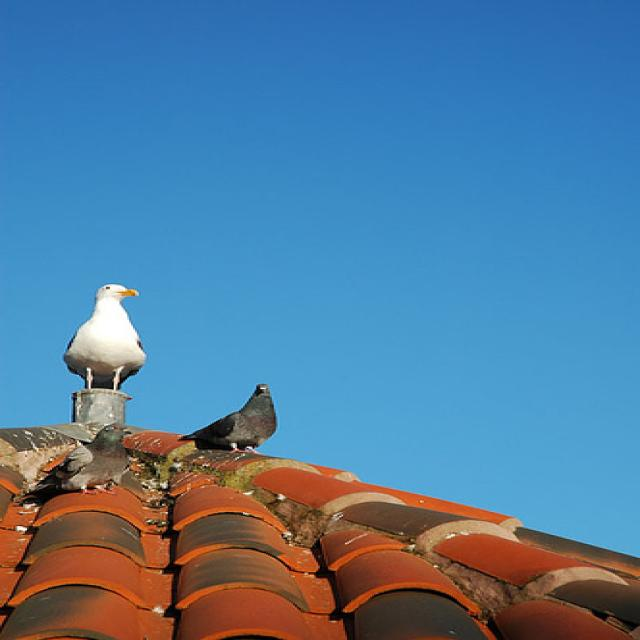bird: (61, 283, 147, 389), (17, 425, 130, 496), (177, 380, 279, 453)
